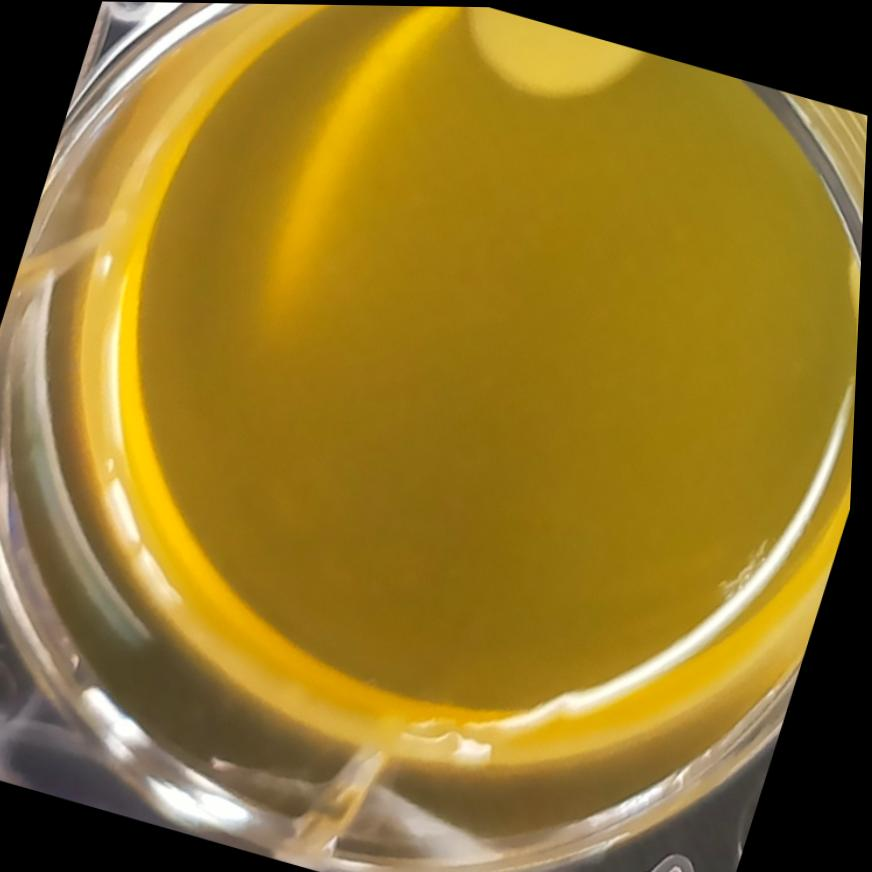valgino: (388, 5, 690, 146)
